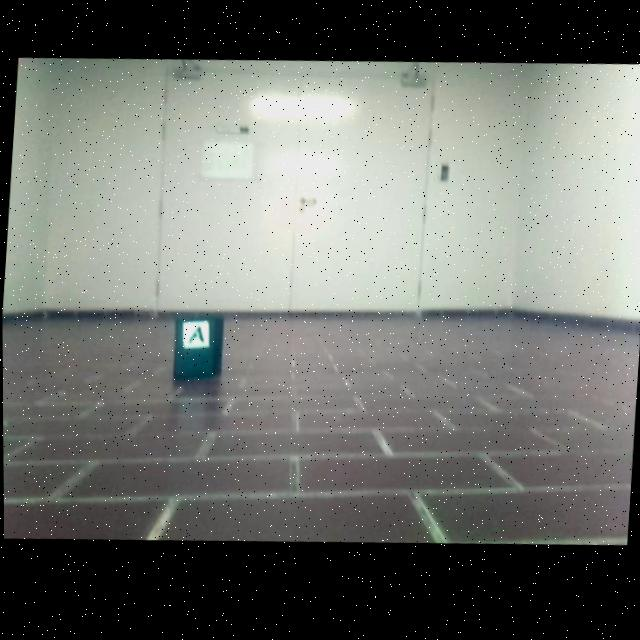A: (188, 327, 204, 348)
